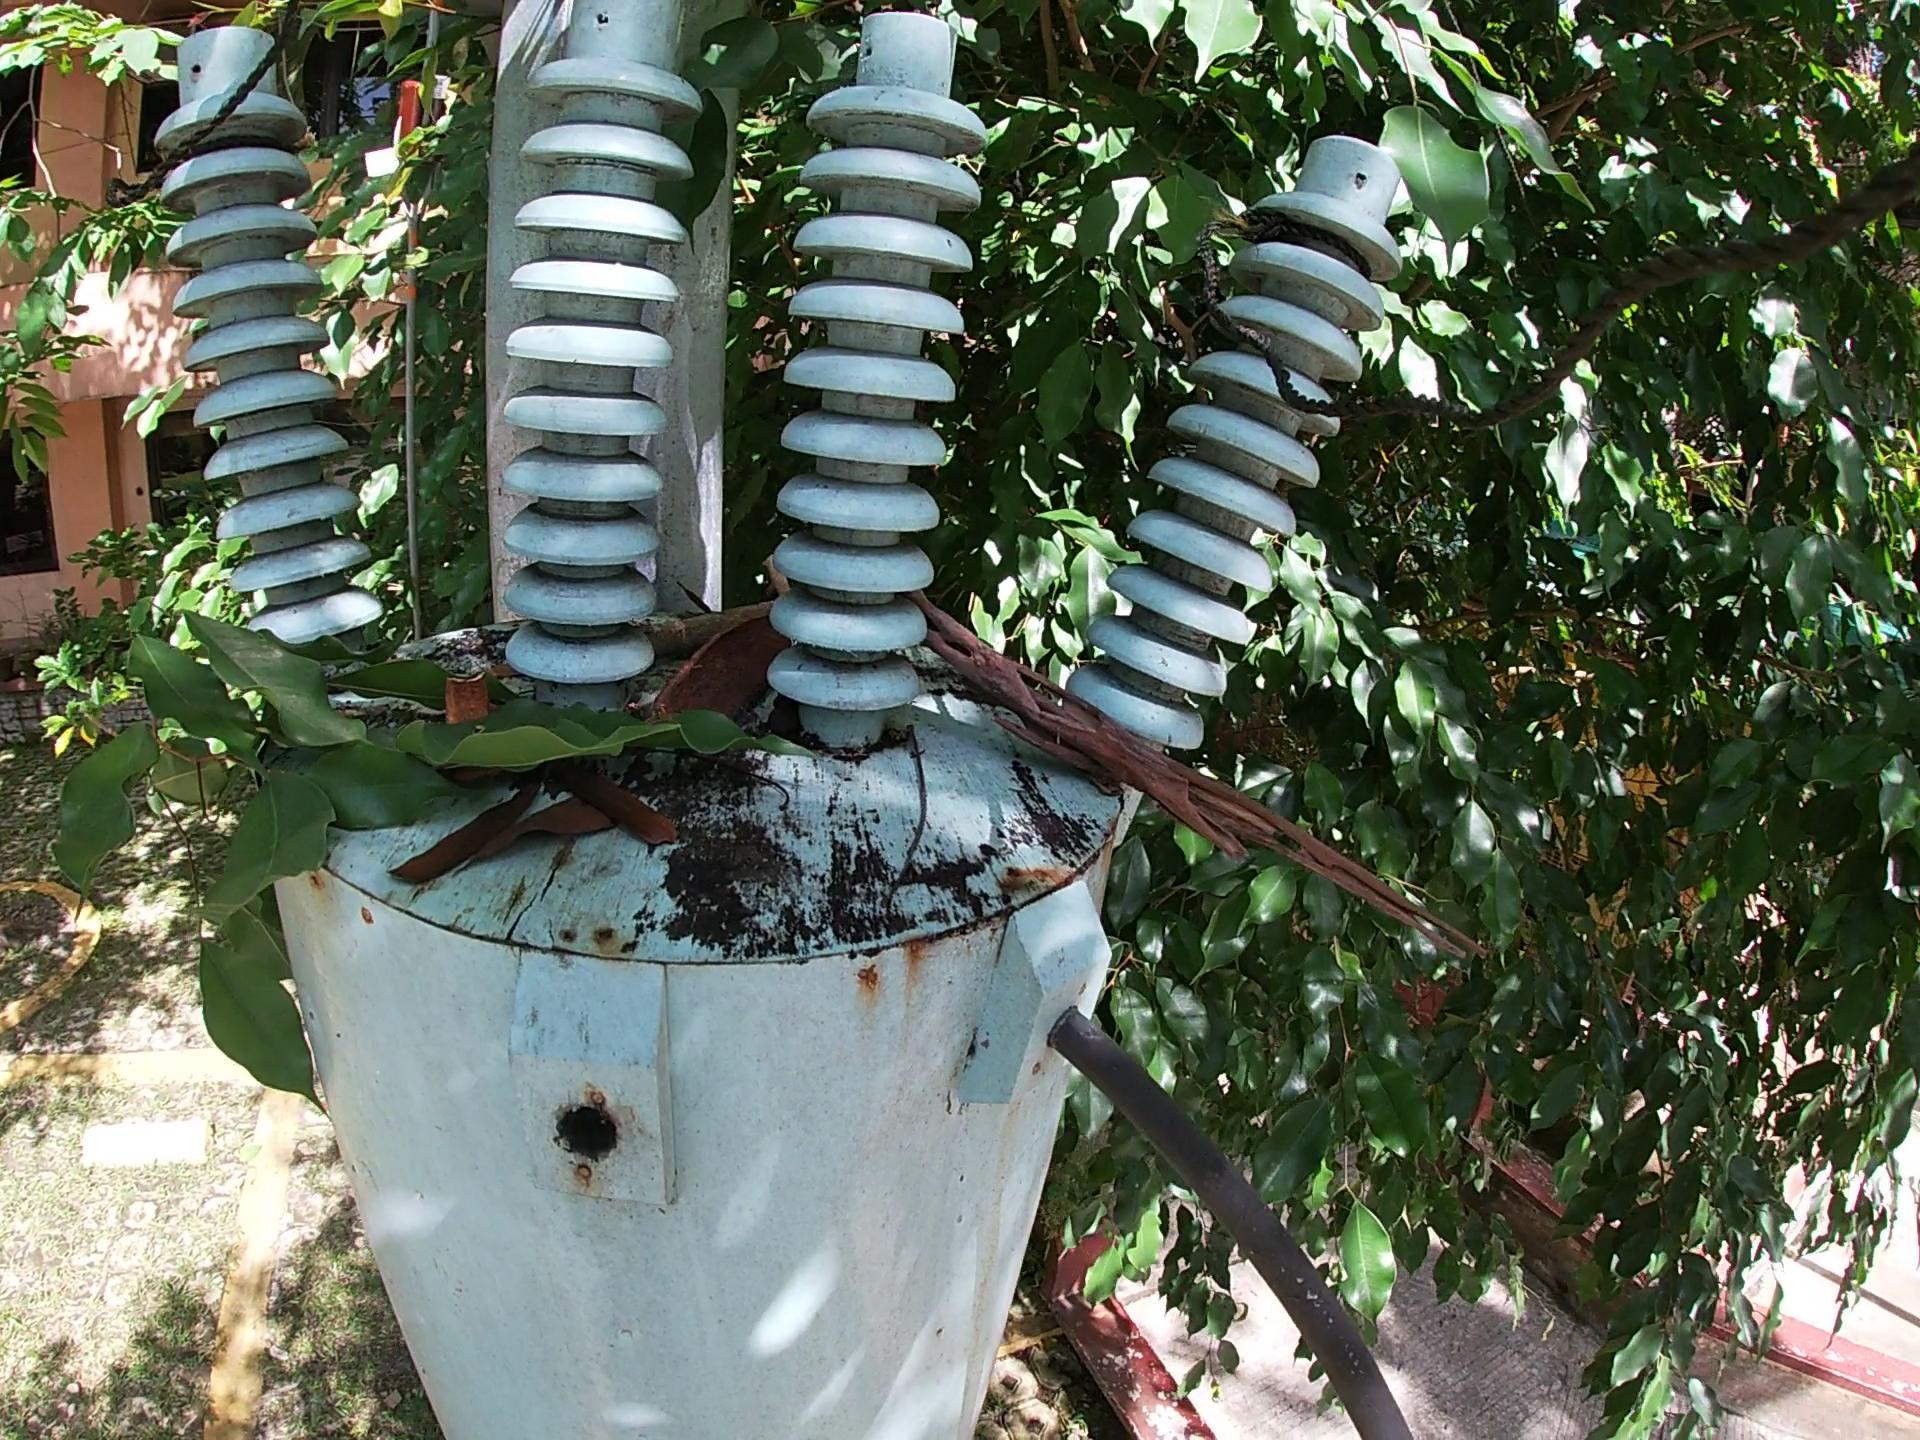branch with leaves: (45, 607, 830, 1118)
leaf: (384, 776, 544, 886), (457, 793, 620, 880), (547, 756, 686, 855)
mahogany fruit: (647, 613, 792, 729), (438, 670, 494, 726)
tree branch: (903, 581, 1494, 973), (643, 596, 785, 672)
